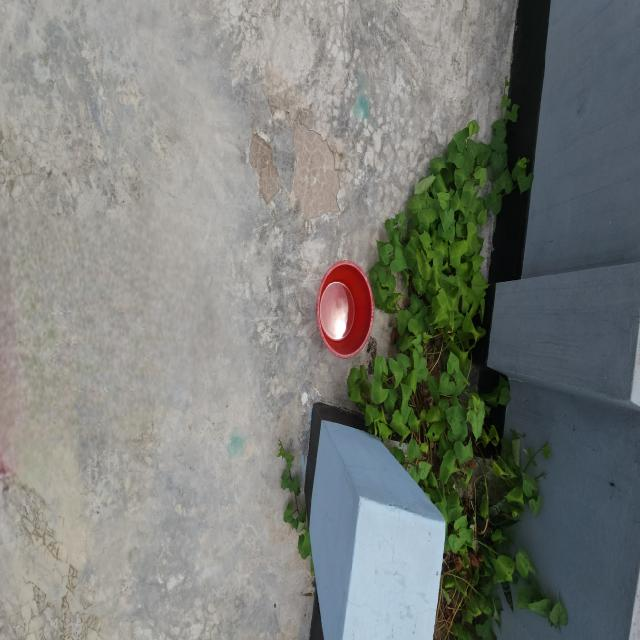Breeding Place: (349, 120, 583, 640), (310, 253, 380, 371)
